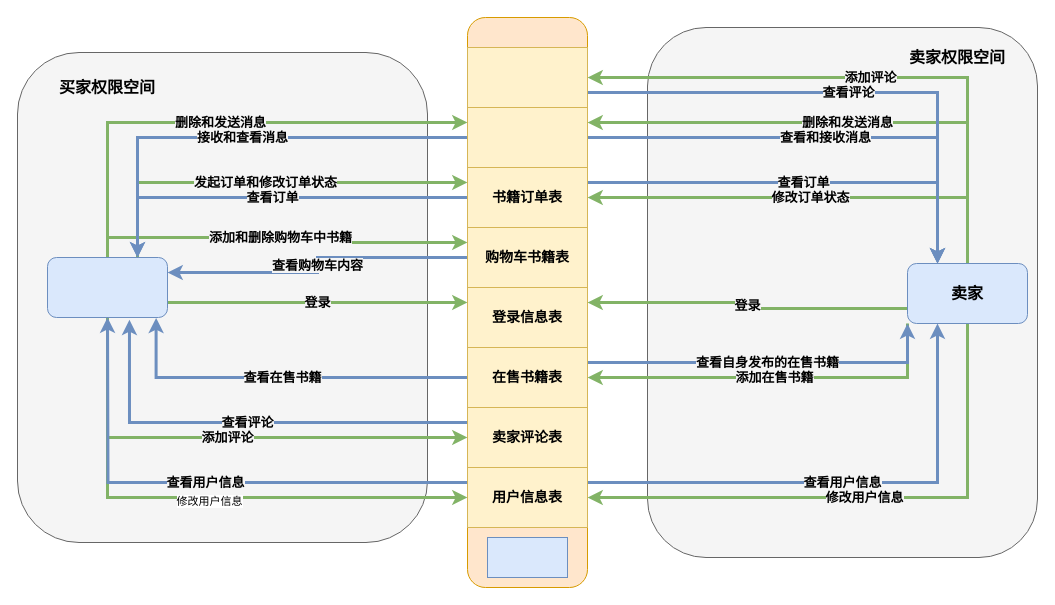
Image size: 1055x605. Some labels were removed from this diagram. Each missing label, with the box of its shape:
DBMS: (486, 536, 568, 578)
买家: (46, 256, 168, 318)
买家评论表: (466, 46, 588, 108)
消息表: (466, 106, 588, 168)
